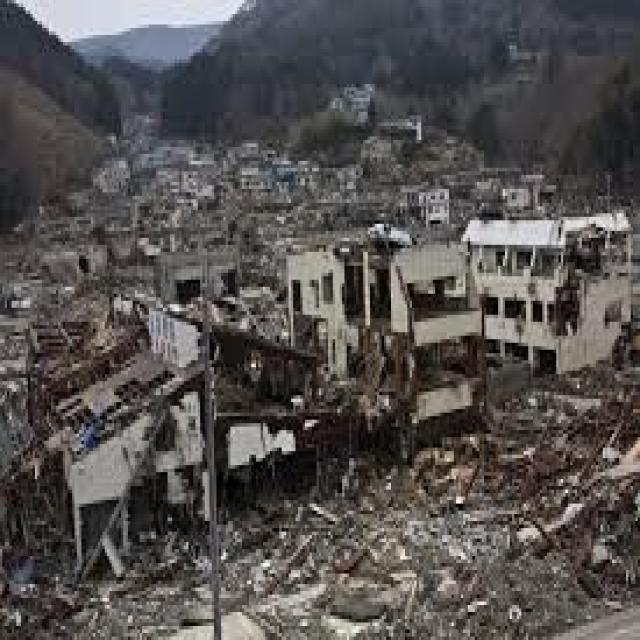collapsed_building: (47, 304, 300, 556), (286, 234, 486, 462), (475, 217, 628, 367)
